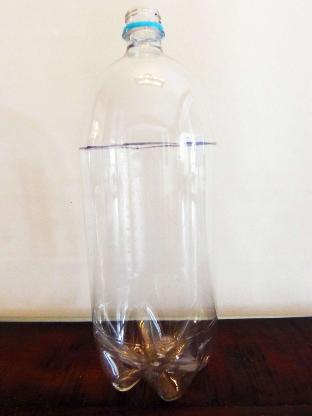Plastic Bottle: (78, 6, 218, 402)
